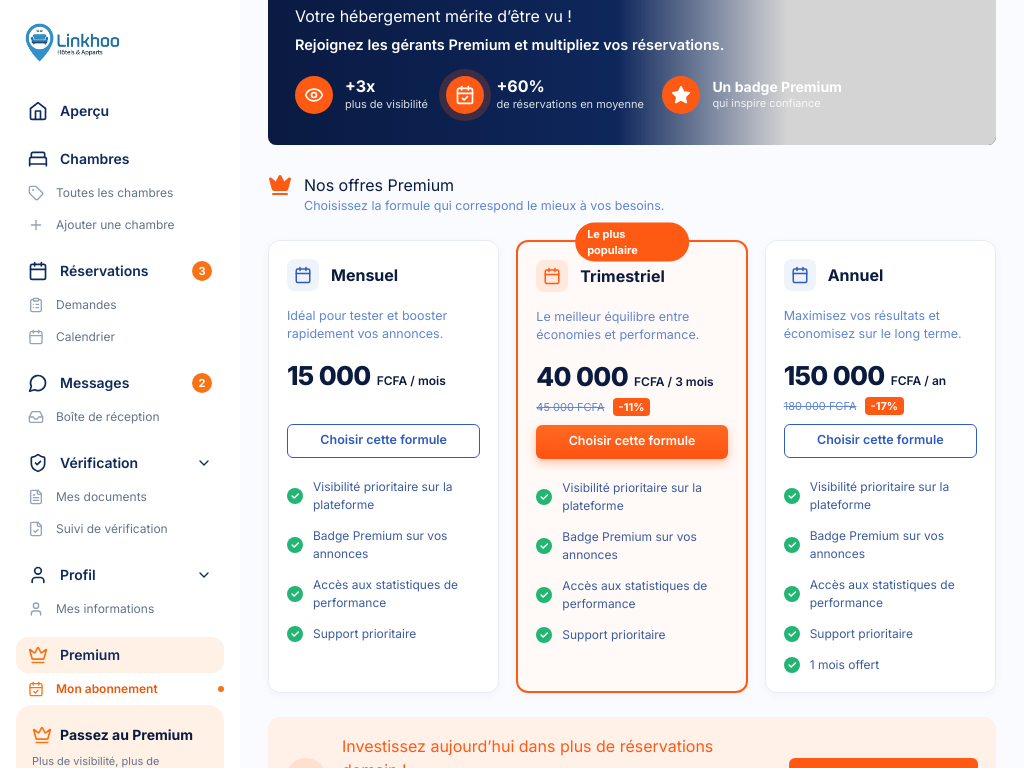
Test case: PremiumPage › signale une réponse sans URL de paiement
The image size is (1024, 768).
(page scrolled)
Step 1. Click the button "Choisir cette formule" below "15 000" → (384, 441), box [287,424,480,458]
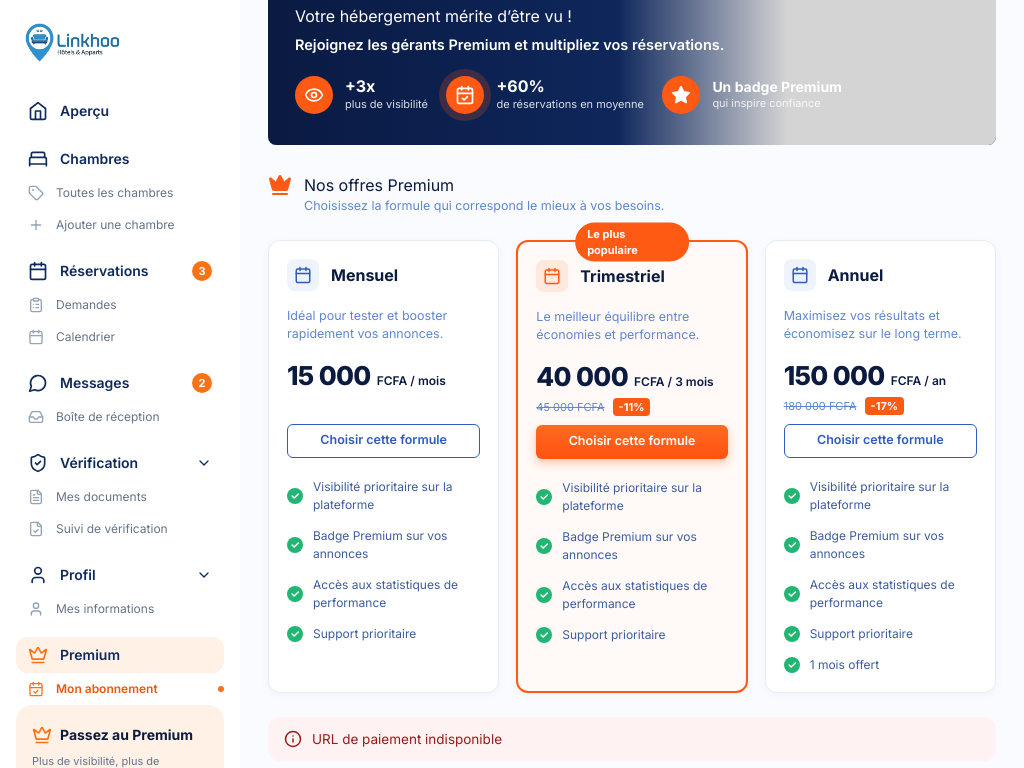
Result: the text "URL de paiement indisponible" is shown at [268,717,996,761]
